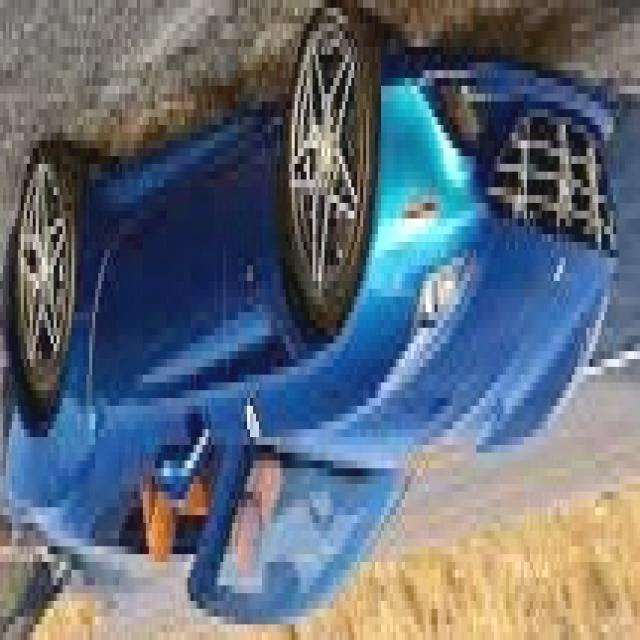blue: (2, 24, 620, 628)
